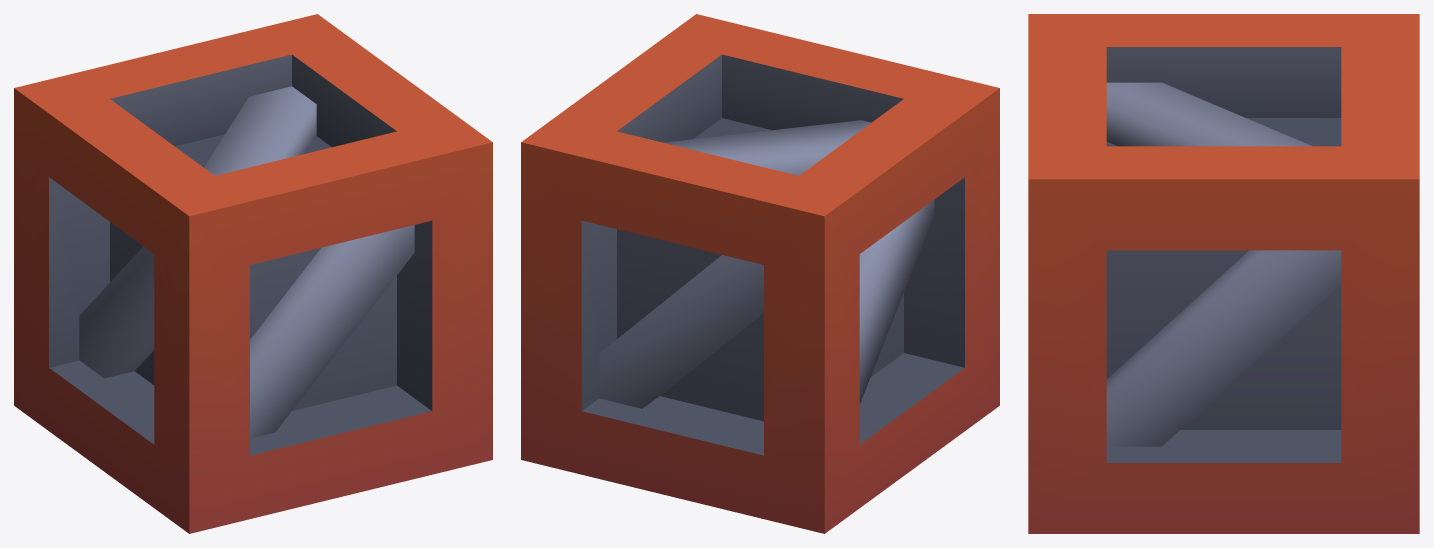
The model's file is pk-crate.glb.
The picture shows the model from 3 angles, left to right: view 1: azimuth 30°, elevation 25°; view 2: azimuth 150°, elevation 25°; view 3: azimuth 270°, elevation 25°; orthographic projection. The views are drawn at different scales.
Parts seen in each view (by area): view 1: crate-color; view 2: crate-color; view 3: crate-color.
Boxes of the visible parts, x1,y1,x2,y2 form: crate-color: (14, 14, 492, 533); crate-color: (521, 14, 999, 533); crate-color: (1028, 14, 1419, 533).
Bounding box in the file's own units: 0.5 × 0.5 × 0.5.
